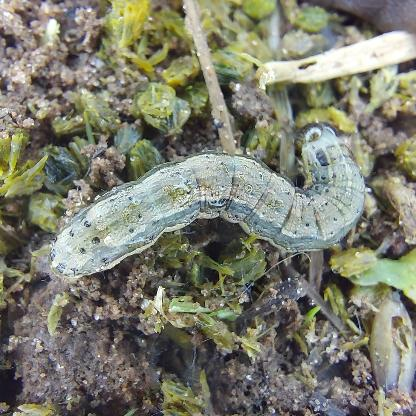Fall Armyworm Larvae: (38, 118, 378, 288)
